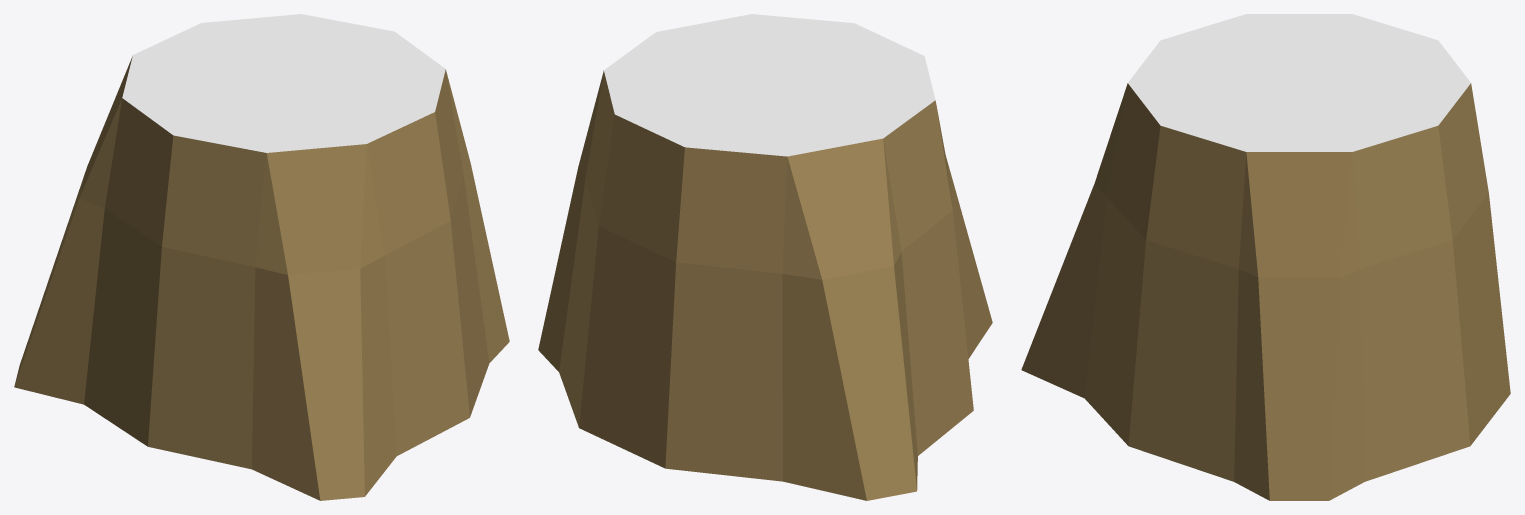
Rendered from Oak_Stump_Snow_03_LOD.fbx.
The picture shows the model from 3 angles, left to right: view 1: azimuth 30°, elevation 25°; view 2: azimuth 150°, elevation 25°; view 3: azimuth 270°, elevation 25°; orthographic projection. The views are drawn at different scales.
Visible parts, largest first — view 1: Oak_Stump_Snow_03_LOD0; view 2: Oak_Stump_Snow_03_LOD0; view 3: Oak_Stump_Snow_03_LOD0.
Boxes of the visible parts, x1,y1,x2,y2 form: Oak_Stump_Snow_03_LOD0: [14, 14, 509, 500]; Oak_Stump_Snow_03_LOD0: [538, 14, 992, 500]; Oak_Stump_Snow_03_LOD0: [1021, 14, 1510, 500].
Size of what is drawn, in the model's own units: 98.43 by 68.01 by 96.07.
